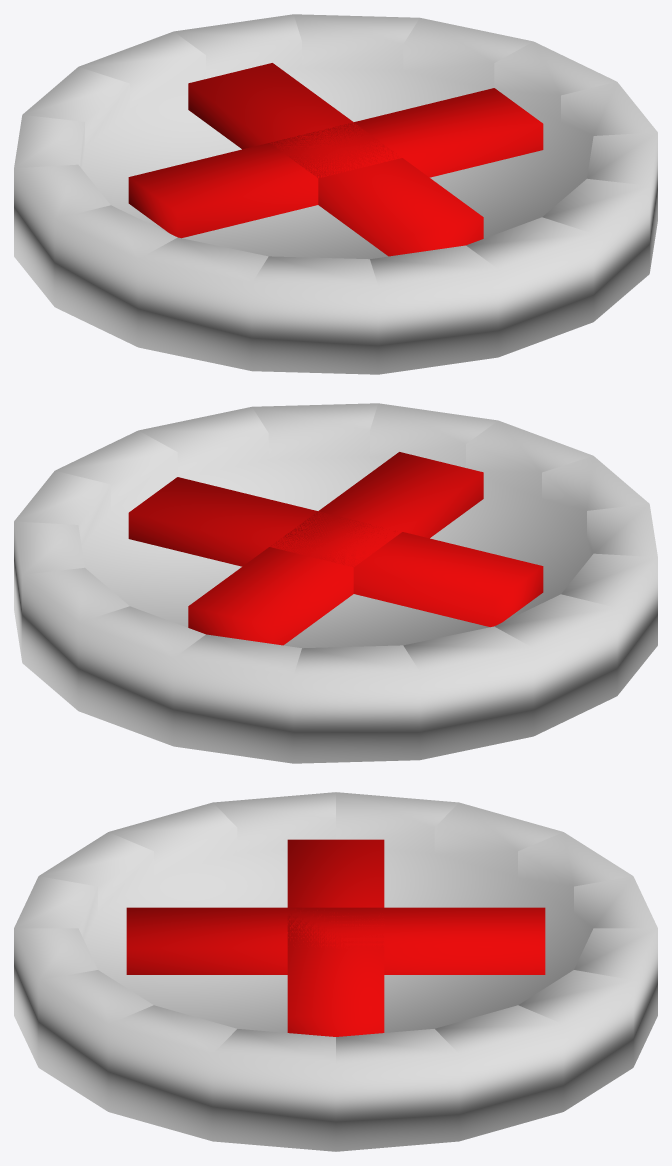
The model's file is static_med.fbx.
The picture shows the model from 3 angles, top to bottom: view 1: azimuth 30°, elevation 25°; view 2: azimuth 150°, elevation 25°; view 3: azimuth 270°, elevation 25°; orthographic projection.
Parts seen in each view (by area): view 1: Cylinder.002; view 2: Cylinder.002; view 3: Cylinder.002.
Part boxes in pixels (x1,y1,x2,y2): Cylinder.002: [14, 14, 657, 374]; Cylinder.002: [14, 403, 657, 763]; Cylinder.002: [14, 792, 657, 1151].
Size of the model in its own units: 2 by 0.3 by 2.
